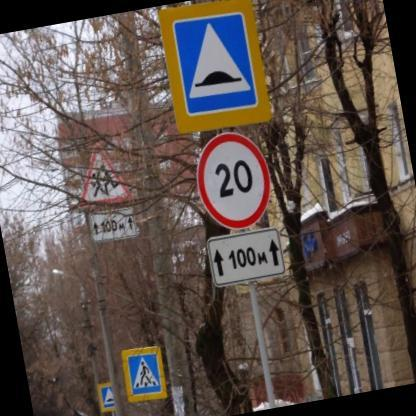obstructed_road_sign: (78, 147, 132, 204), (89, 207, 138, 242), (97, 383, 115, 415)
road_sign: (159, 0, 271, 132), (197, 133, 270, 229), (208, 229, 284, 285), (122, 347, 167, 400)
